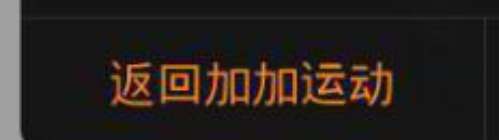Button: (1, 1, 498, 139)
